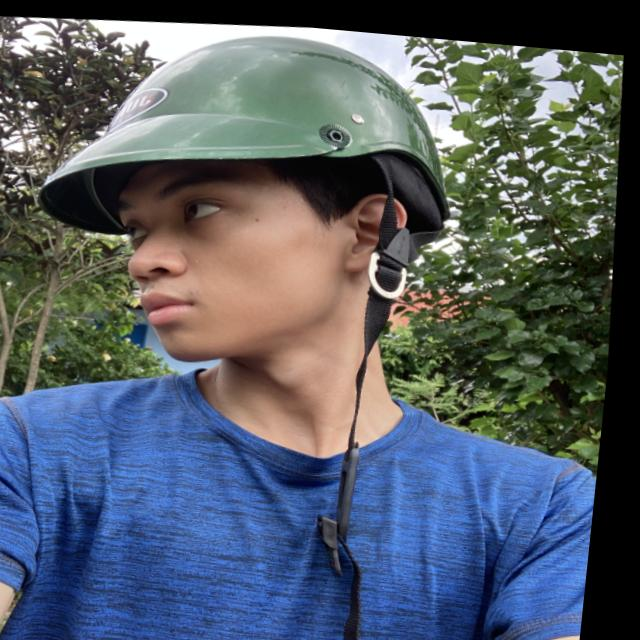illegal_helmet: (0, 2, 496, 640)
